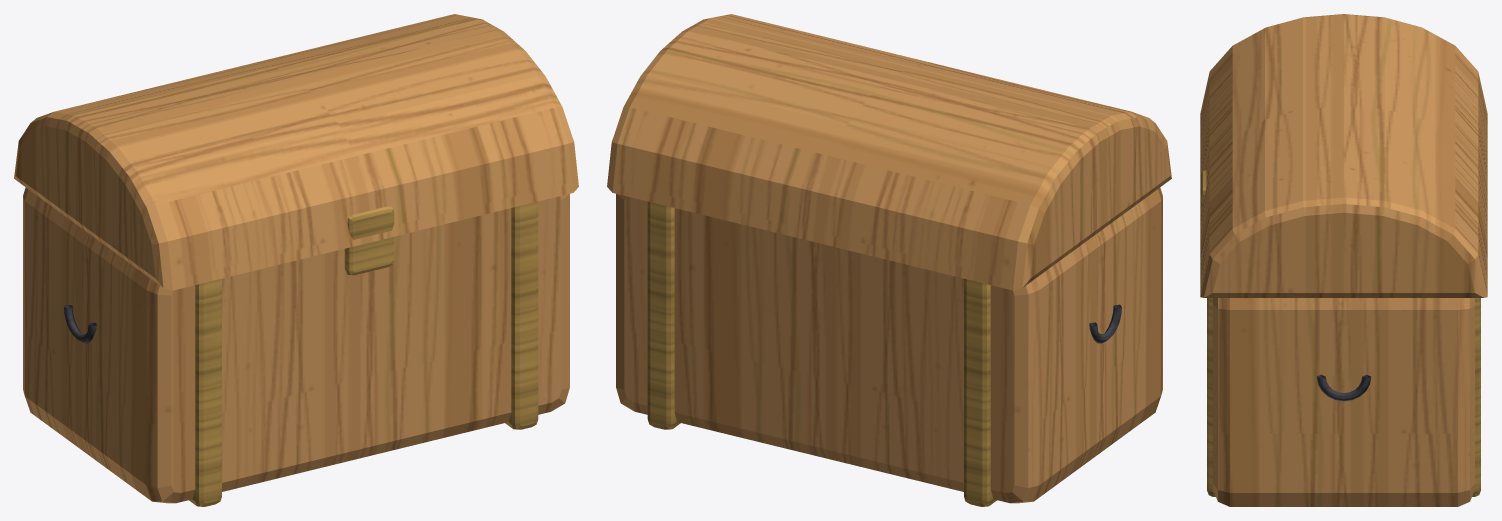
Rendered from chest_honey.candidate.glb.
3 views of the same model, side by side, from view 1: azimuth 30°, elevation 25°; view 2: azimuth 150°, elevation 25°; view 3: azimuth 270°, elevation 25° (orthographic). The views are drawn at different scales.
Visible parts, largest first — view 1: wood:honey.00, brass.01; view 2: wood:honey.00, brass.01; view 3: wood:honey.00, brass.01, iron.02.
Boxes of the visible parts, <box> form: wood:honey.00: <box>14,14,578,503</box>; brass.01: <box>189,201,538,506</box>; wood:honey.00: <box>607,14,1171,503</box>; brass.01: <box>647,201,996,506</box>; wood:honey.00: <box>1200,14,1487,506</box>; brass.01: <box>1201,170,1480,496</box>; iron.02: <box>1316,374,1371,401</box>.
Bounding box in the file's own units: 0.836 × 0.6103 × 0.5043.
Materials: 3 (3 with a texture image).
